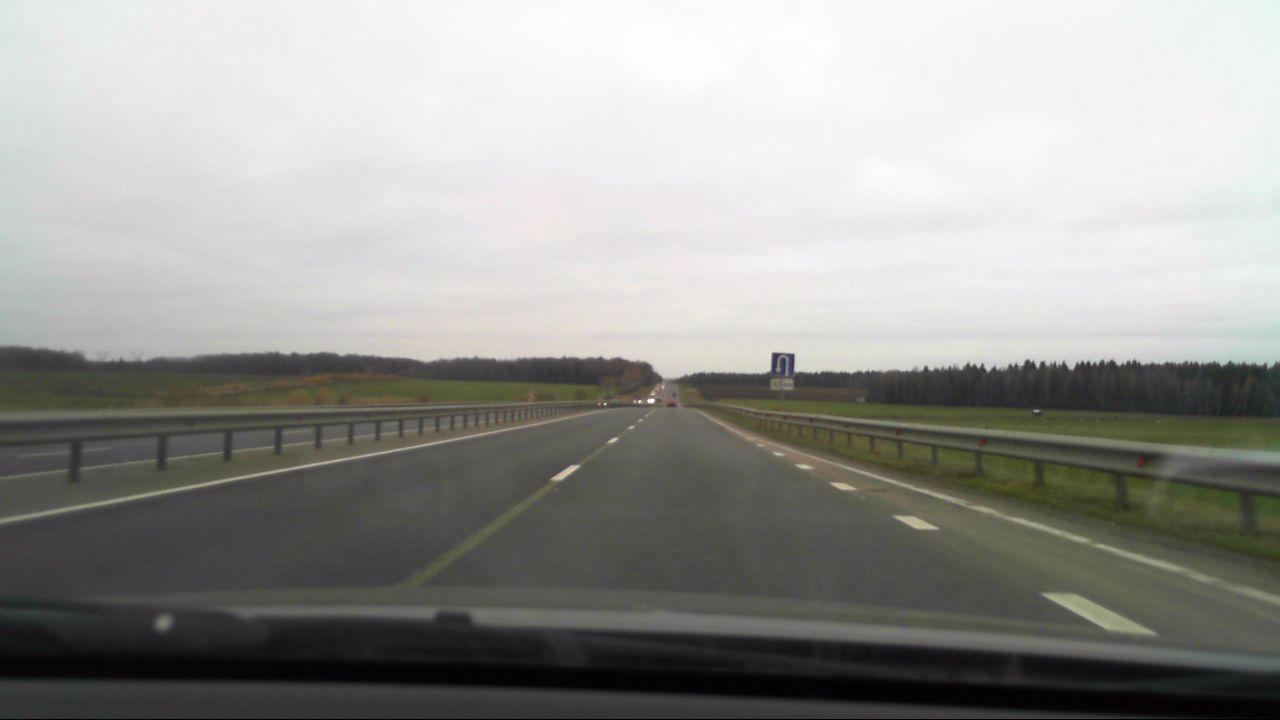6_3_1: (770, 352, 794, 377)
8_1_1: (770, 377, 795, 391)
